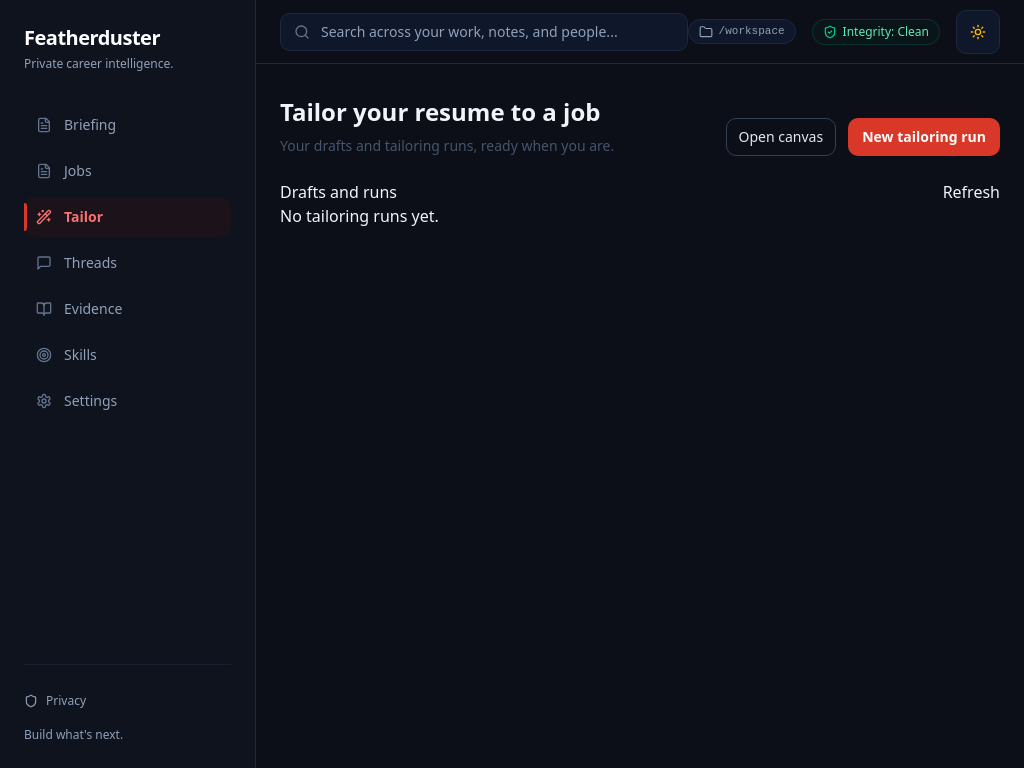
Scenario: awaits the workspace save before creating a run and preserves posting when creation fails
Click the button "New tailoring run": coordinates (924, 137) [848,118,1000,156]
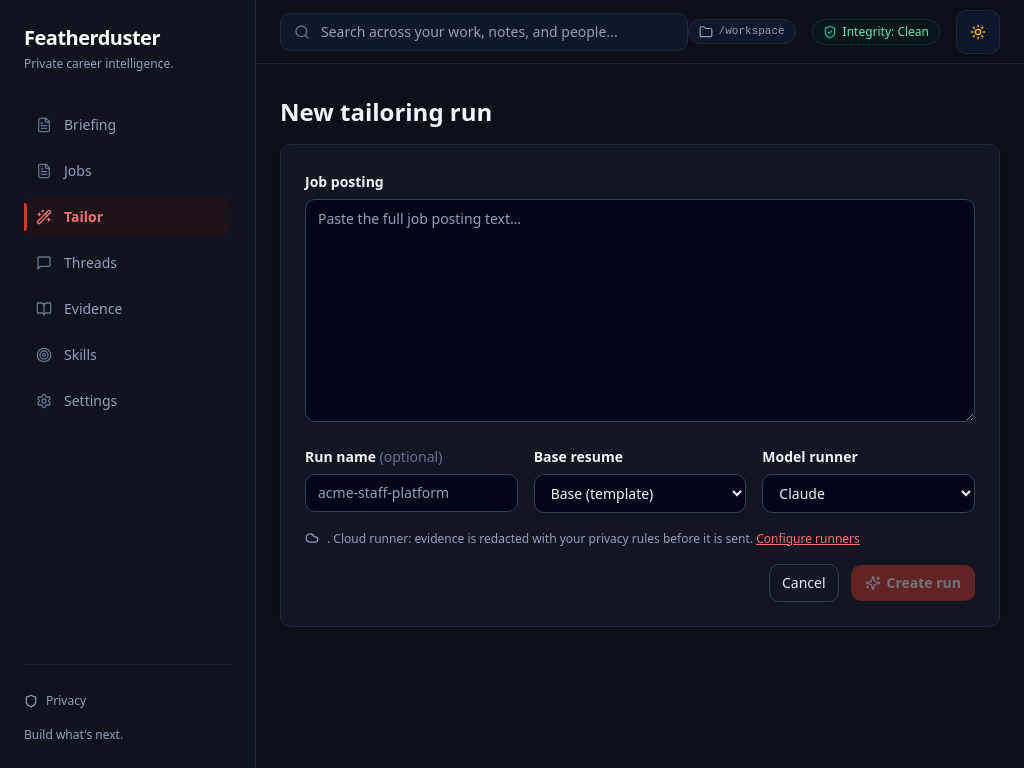
Check: the dropdown labelled "Model runner" shows "Claude", box [762,474,975,513]
In the text box labelled "Job posting": coordinates (640, 310) [305,199,975,422], type "A posting long enough to create a run"
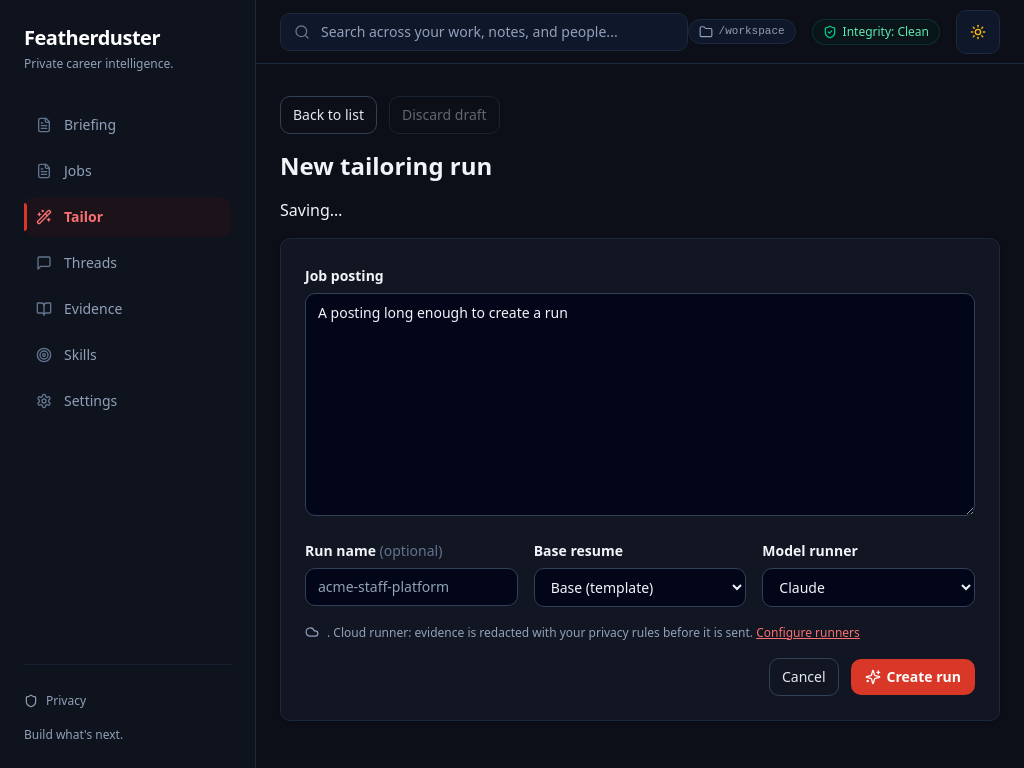
Click the button "Create run": coordinates (913, 677) [850,659,975,695]
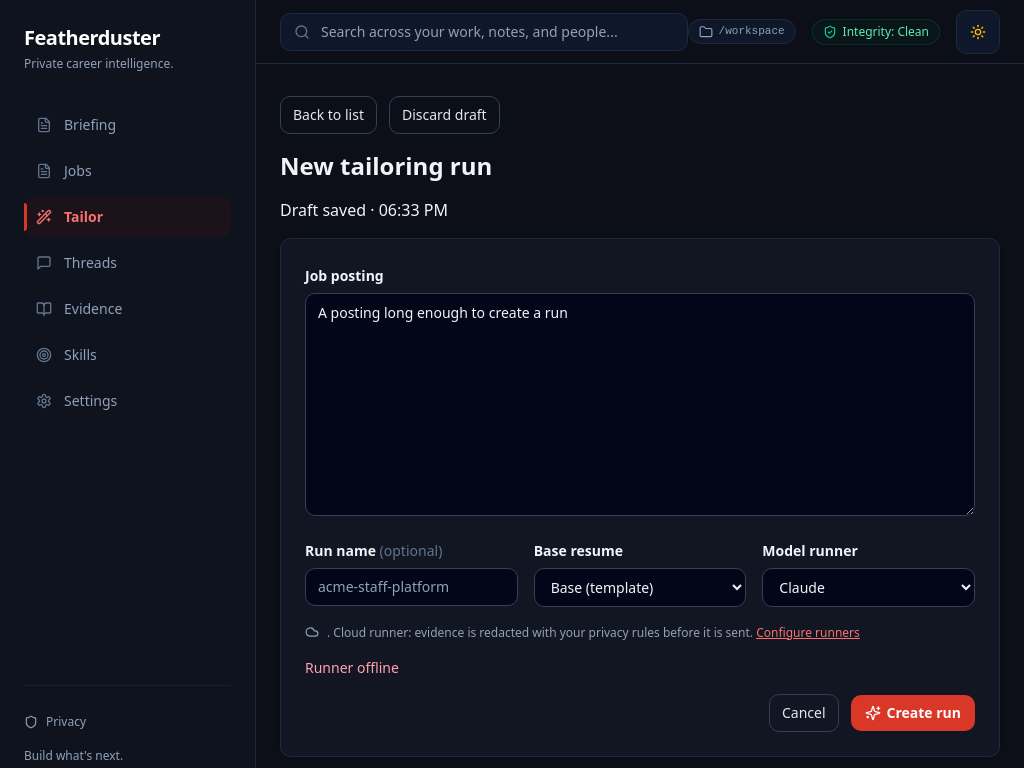
Check: the message "Runner offline" is shown, box [305,658,399,677]
